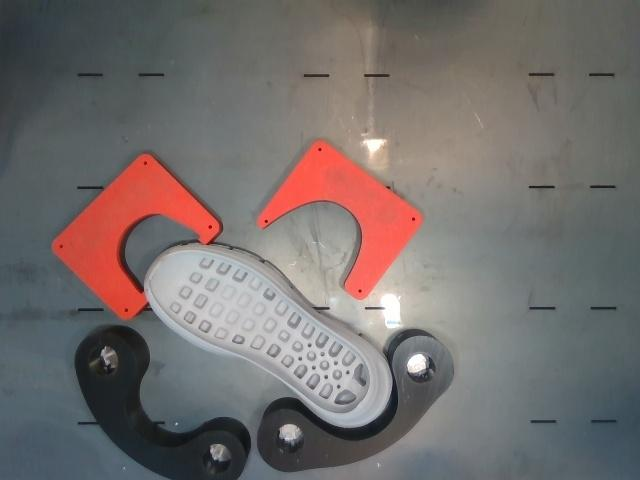shoes: (149, 252, 370, 414)
